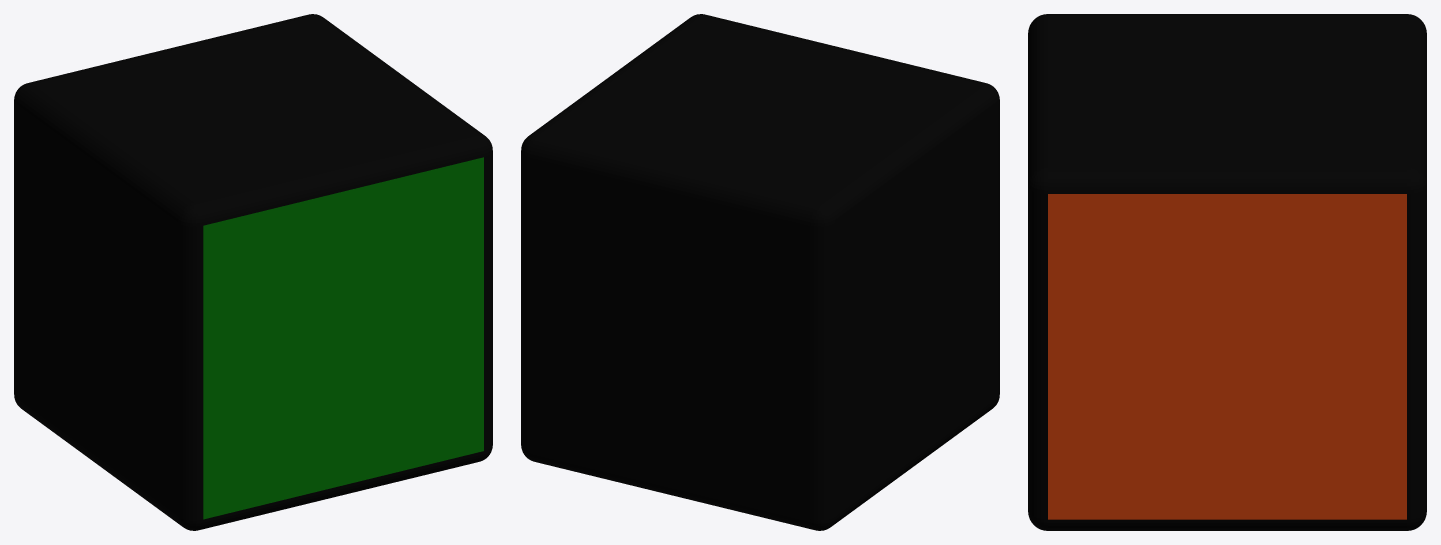
Rendered from beta4.obj.
3 renders of one model, left to right at view 1: azimuth 30°, elevation 25°; view 2: azimuth 150°, elevation 25°; view 3: azimuth 270°, elevation 25°, orthographic. The views are drawn at different scales.
Visible parts, largest first — view 1: Cube.004; view 2: Cube.004; view 3: Cube.004.
Part boxes in pixels (left/top/right/bottom): Cube.004: left=14, top=14, right=492, bottom=530; Cube.004: left=521, top=14, right=999, bottom=530; Cube.004: left=1028, top=14, right=1426, bottom=530.
Size of the model in its own units: 4.28 by 4.28 by 4.28.
